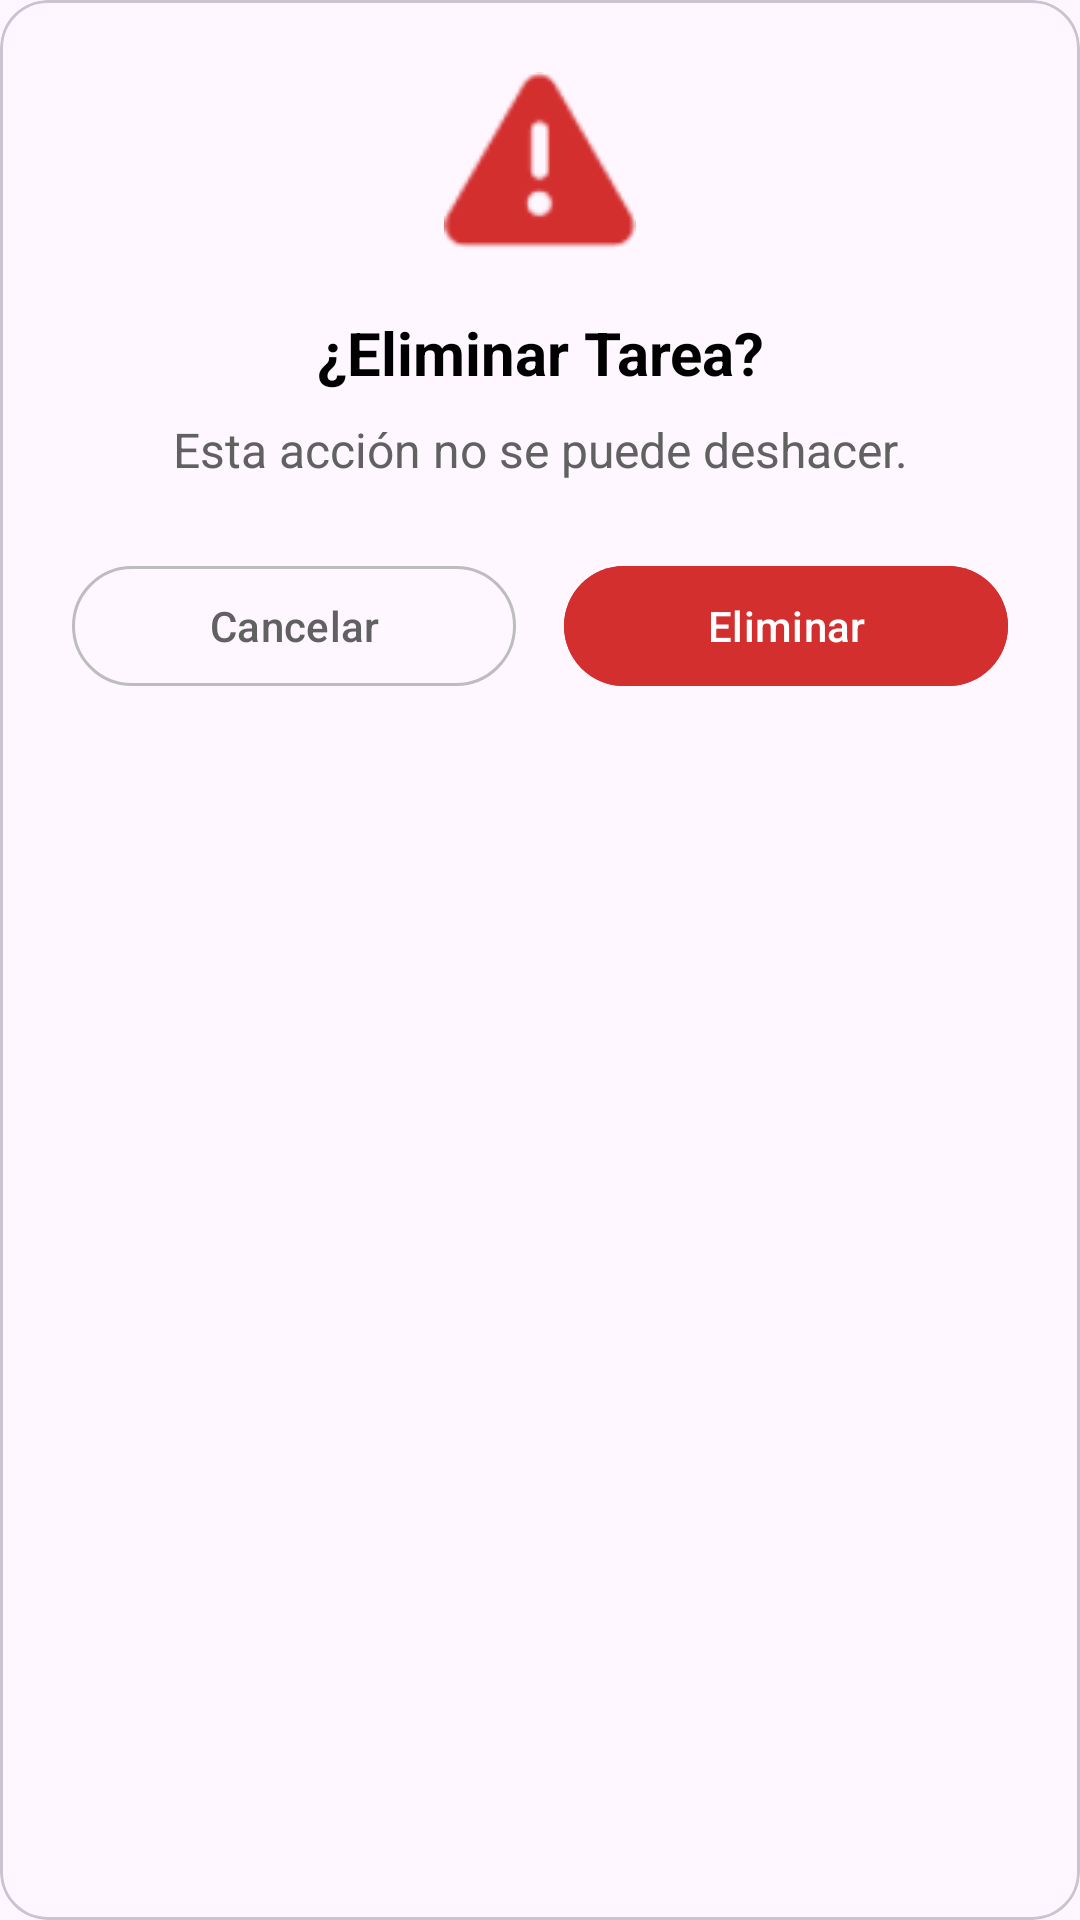

Where icons sit on this 1080px×1920px app screen, as (x1, y1, x2, y2):
alert: (444, 72, 636, 247)
